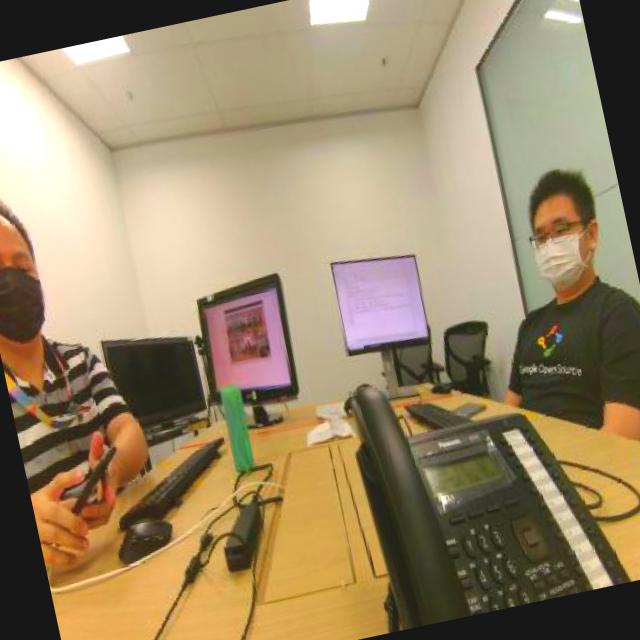Person: (0, 157, 144, 518), (465, 137, 640, 423)
